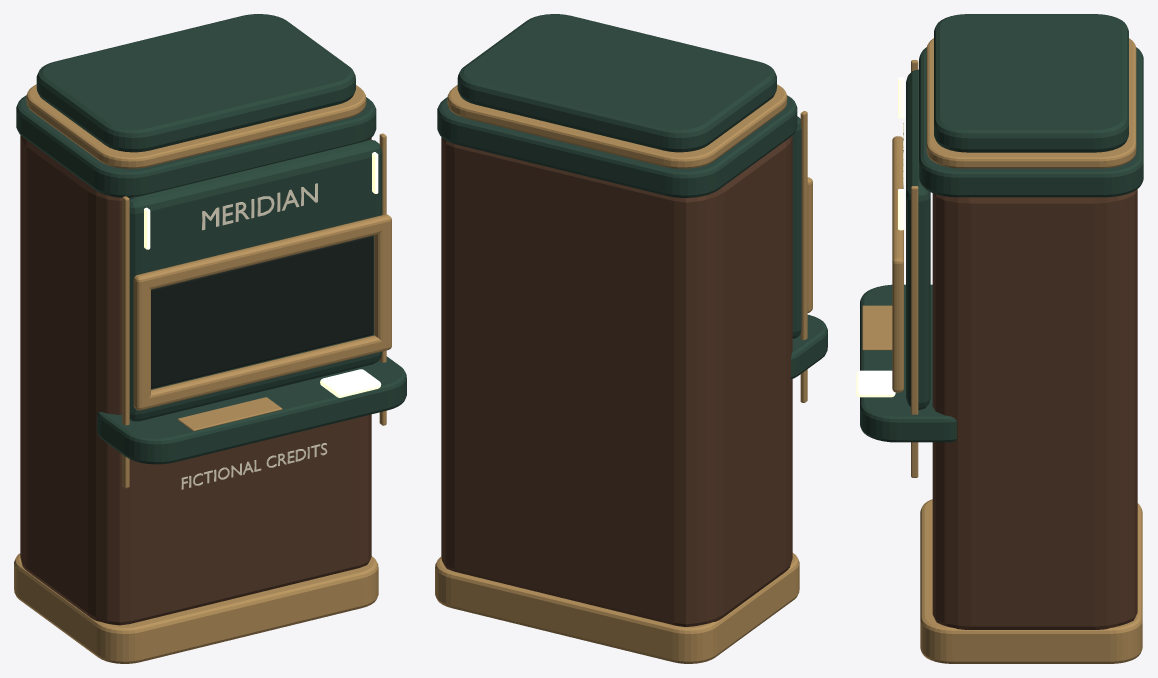
File: slot-machine.glb
3 renders of one model, left to right at view 1: azimuth 30°, elevation 25°; view 2: azimuth 150°, elevation 25°; view 3: azimuth 270°, elevation 25°, orthographic.
Visible parts, largest first — view 1: Meridian walnut.003, Meridian evergreen upholstery.003, Meridian brushed bronze.003, Meridian charcoal.003, Meridian ivory marking.003, Meridian interior opal glow.003; view 2: Meridian walnut.003, Meridian evergreen upholstery.003, Meridian brushed bronze.003; view 3: Meridian walnut.003, Meridian evergreen upholstery.003, Meridian brushed bronze.003, Meridian interior opal glow.003.
Part boxes in pixels (left/top/right/bottom): Meridian walnut.003: left=20, top=135, right=371, bottom=625; Meridian evergreen upholstery.003: left=16, top=14, right=406, bottom=464; Meridian brushed bronze.003: left=14, top=84, right=391, bottom=663; Meridian charcoal.003: left=151, top=235, right=373, bottom=388; Meridian ivory marking.003: left=181, top=183, right=327, bottom=489; Meridian interior opal glow.003: left=144, top=152, right=381, bottom=397; Meridian walnut.003: left=441, top=135, right=792, bottom=626; Meridian evergreen upholstery.003: left=437, top=14, right=827, bottom=379; Meridian brushed bronze.003: left=435, top=84, right=812, bottom=663; Meridian walnut.003: left=932, top=189, right=1137, bottom=629; Meridian evergreen upholstery.003: left=860, top=14, right=1143, bottom=442; Meridian brushed bronze.003: left=862, top=38, right=1142, bottom=663; Meridian interior opal glow.003: left=856, top=77, right=904, bottom=397.
Bounding box in the file's own units: 1.3 × 2.35 × 1.16.
